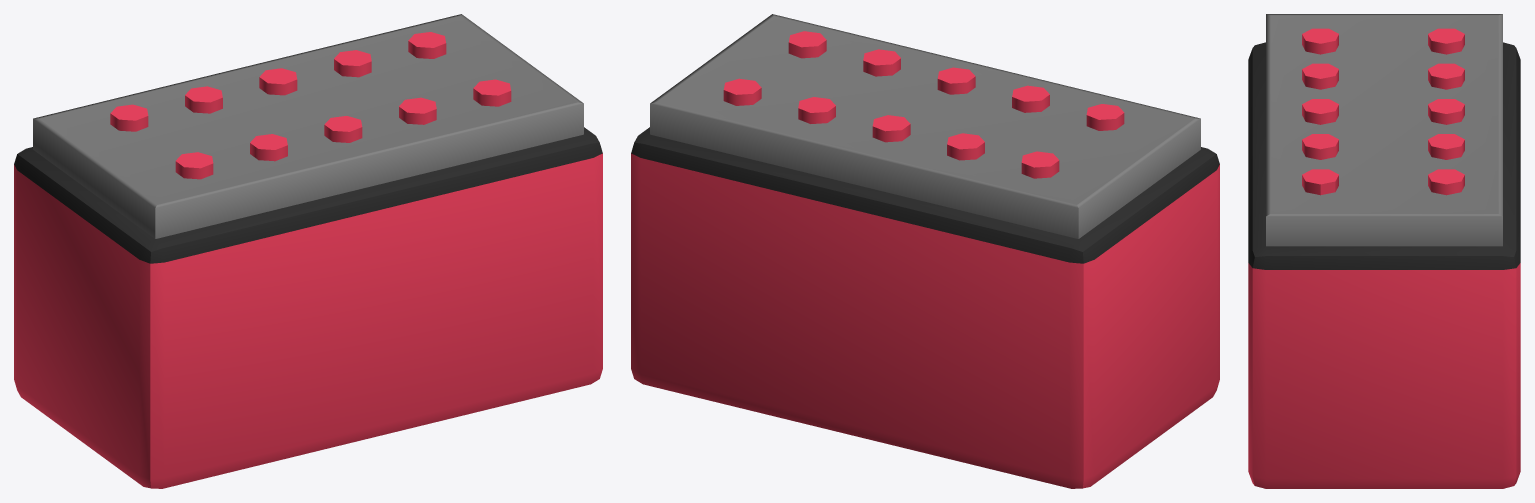
Rendered from Aki.fbx.
The picture shows the model from 3 angles, left to right: view 1: azimuth 30°, elevation 25°; view 2: azimuth 150°, elevation 25°; view 3: azimuth 270°, elevation 25°; orthographic projection. The views are drawn at different scales.
Visible parts, largest first — view 1: Box013; view 2: Box013; view 3: Box013.
Part boxes in pixels (bbox=[...]): Box013: bbox=[14, 14, 602, 488]; Box013: bbox=[631, 14, 1219, 488]; Box013: bbox=[1248, 14, 1520, 488].
Bounding box in the file's own units: 36.4 × 21.94 × 19.28.
Materials: 1 (1 with a texture image).
